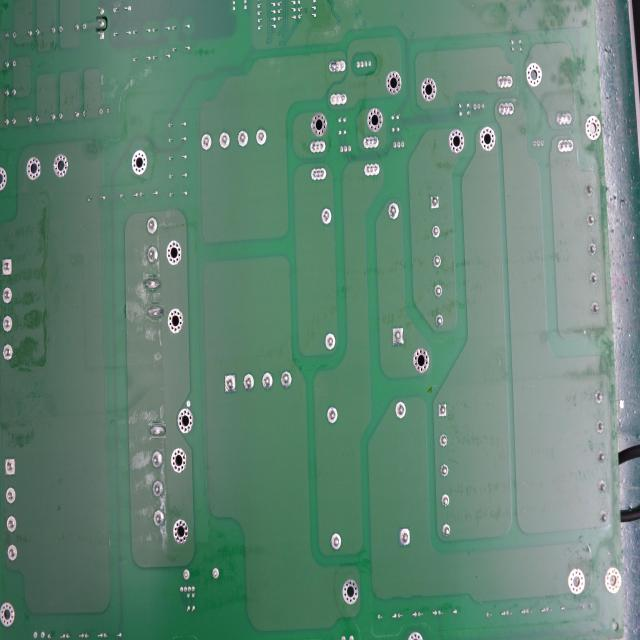slug: (146, 303, 163, 321), (148, 422, 165, 440), (145, 275, 161, 292)
